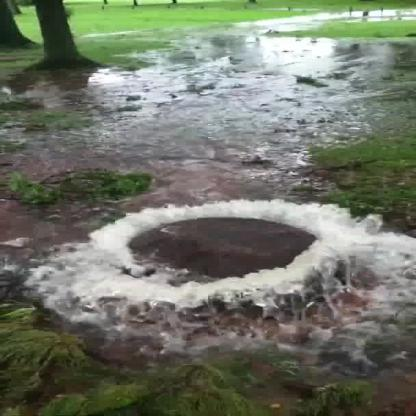drainage overflow-repair-: (55, 192, 363, 315)
